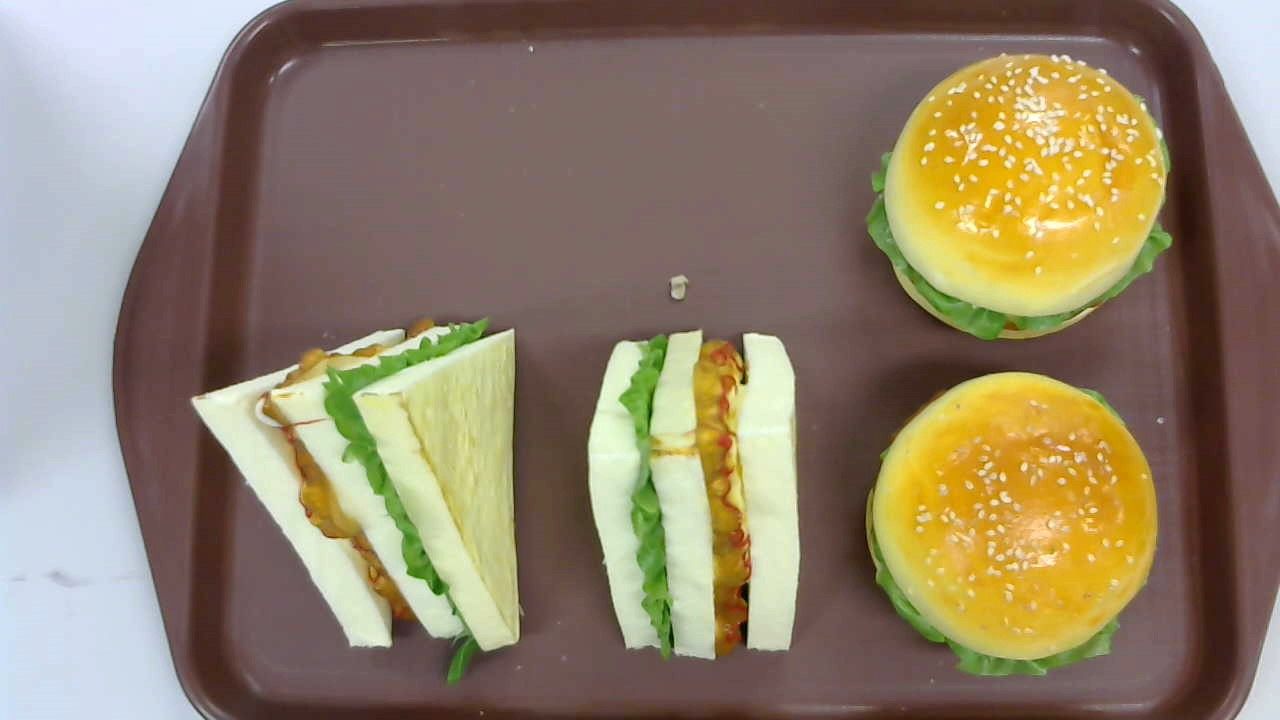hamburger: (866, 373, 1157, 679), (867, 53, 1172, 343)
sandwich: (189, 317, 522, 678), (587, 328, 801, 663)
